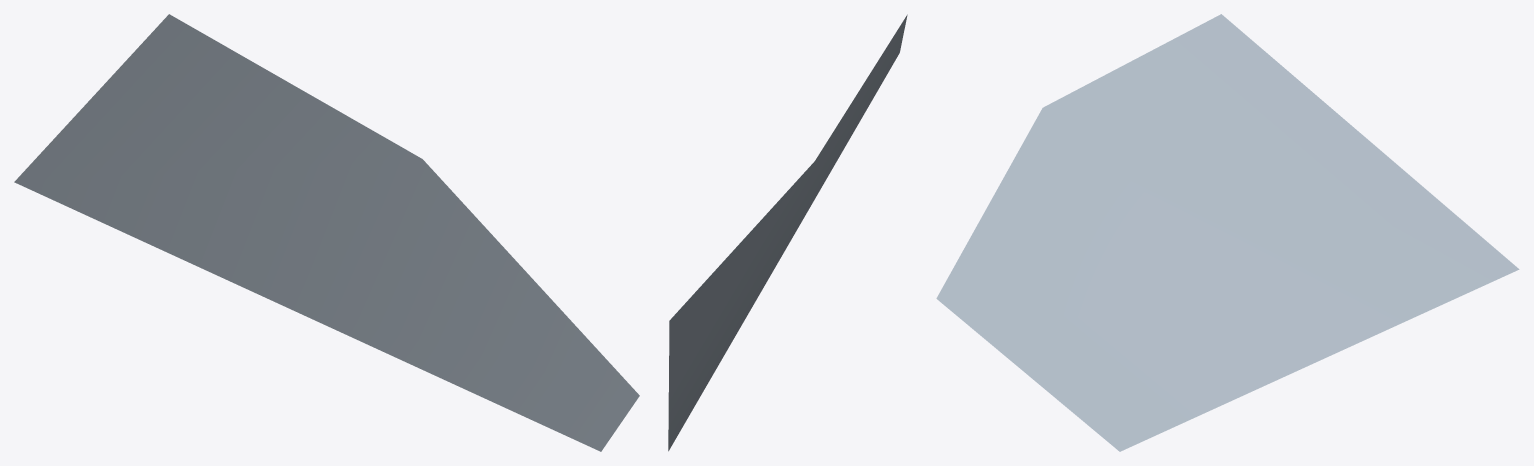
Rendered from articular-disc-of-sternoclavicular-joint-l.glb.
3 renders of one model, left to right at view 1: azimuth 30°, elevation 25°; view 2: azimuth 150°, elevation 25°; view 3: azimuth 270°, elevation 25°, orthographic. The views are drawn at different scales.
Visible parts, largest first — view 1: Articular disc of sternoclavicular joint.l; view 2: Articular disc of sternoclavicular joint.l; view 3: Articular disc of sternoclavicular joint.l.
Part boxes in pixels (x1=…): Articular disc of sternoclavicular joint.l: x1=14, y1=14, x2=639, y2=451; Articular disc of sternoclavicular joint.l: x1=668, y1=14, x2=907, y2=451; Articular disc of sternoclavicular joint.l: x1=936, y1=14, x2=1519, y2=451.
Bounding box in the file's own units: 0.0189 × 0.0238 × 0.0394.
